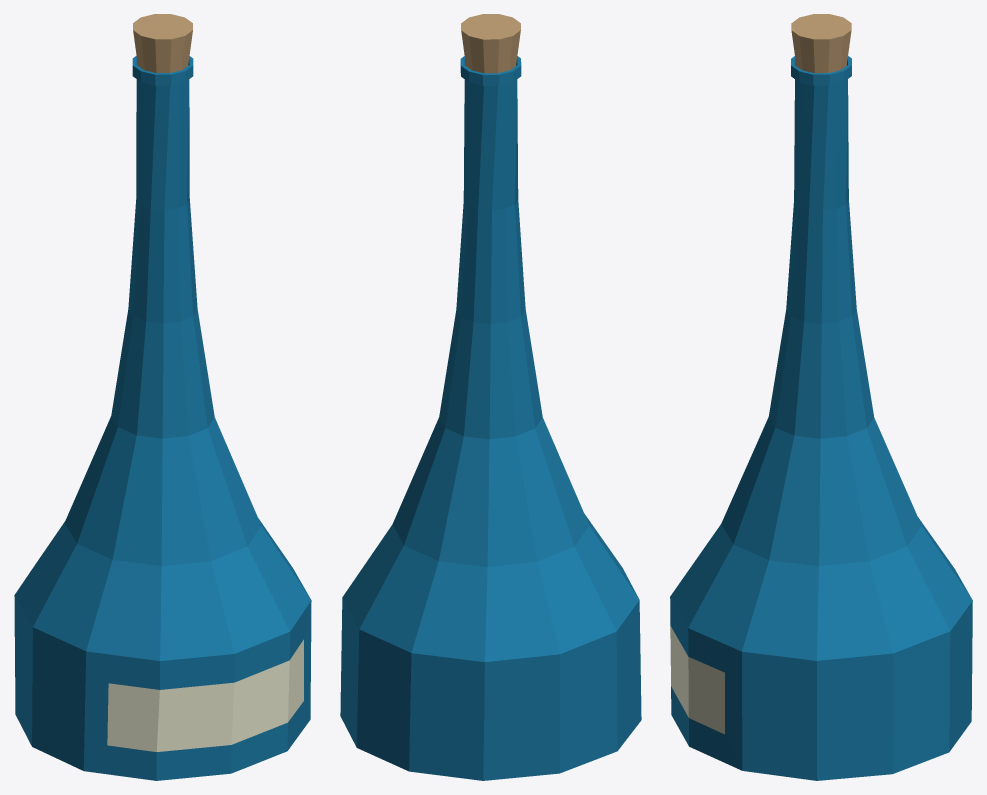
The model's file is potion_blue_3.fbx.
3 renders of one model, left to right at view 1: azimuth 30°, elevation 25°; view 2: azimuth 150°, elevation 25°; view 3: azimuth 270°, elevation 25°, orthographic.
Parts seen in each view (by area): view 1: potion_blue_3; view 2: potion_blue_3; view 3: potion_blue_3.
Part boxes in pixels (left/top/right/bottom): potion_blue_3: left=14, top=14, right=311, bottom=780; potion_blue_3: left=340, top=14, right=641, bottom=780; potion_blue_3: left=670, top=14, right=972, bottom=780.
Bounding box in the file's own units: 19.87 × 50.96 × 20.22.
